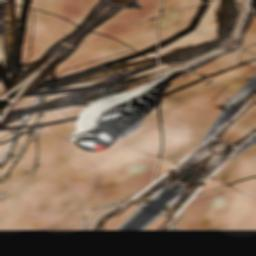Woodpecker: (49, 51, 197, 159)
